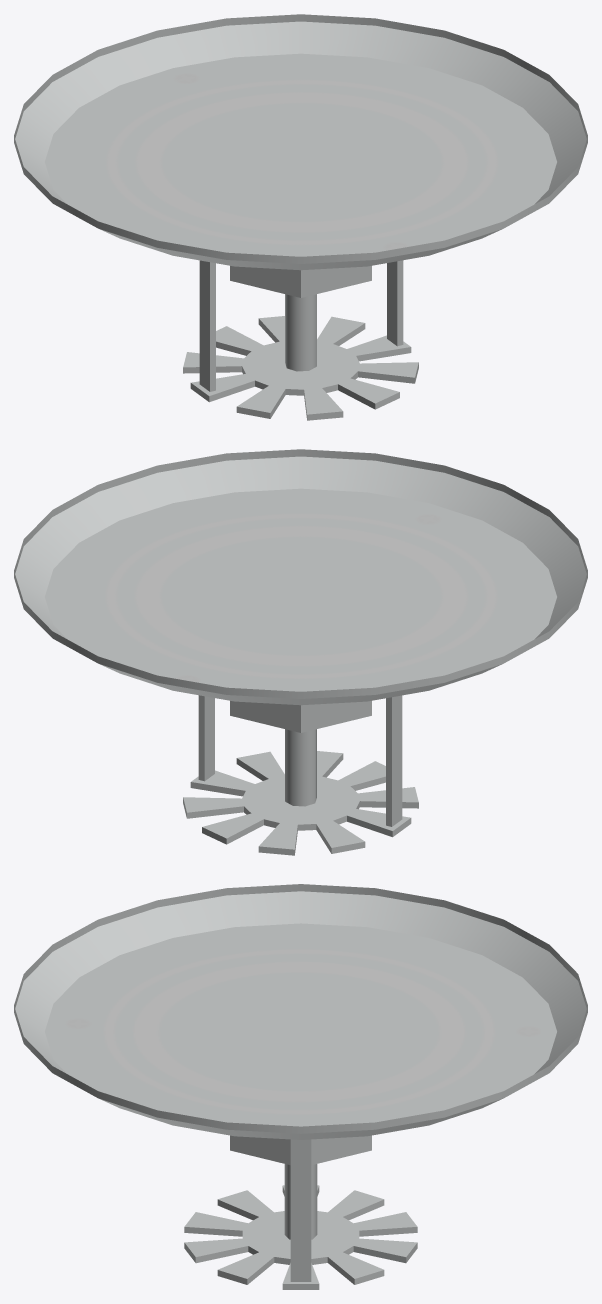
File: FireSmoke01_3.FBX
3 renders of one model, top to bottom at view 1: azimuth 30°, elevation 25°; view 2: azimuth 150°, elevation 25°; view 3: azimuth 270°, elevation 25°, orthographic.
Parts seen in each view (by area): view 1: FireSmoke01_3; view 2: FireSmoke01_3; view 3: FireSmoke01_3.
Boxes of the visible parts, bbox=[...] form: FireSmoke01_3: bbox=[14, 14, 587, 420]; FireSmoke01_3: bbox=[14, 449, 587, 855]; FireSmoke01_3: bbox=[14, 884, 587, 1289].
Bounding box in the file's own units: 14 × 6.33 × 14.
